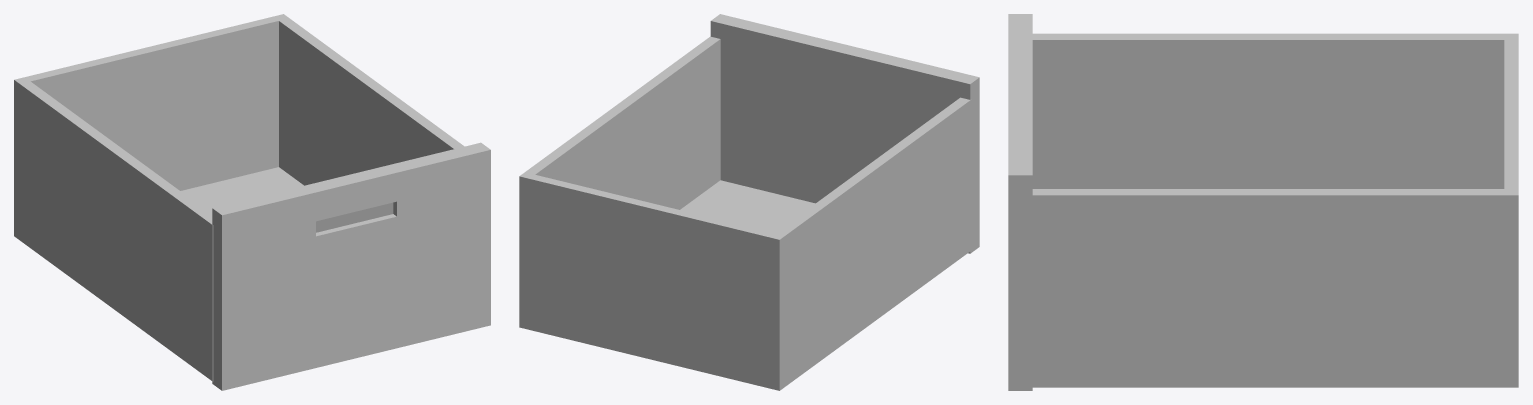
File: Refrigerator3_C2_02.fbx
3 renders of one model, left to right at view 1: azimuth 30°, elevation 25°; view 2: azimuth 150°, elevation 25°; view 3: azimuth 270°, elevation 25°, orthographic. The views are drawn at different scales.
Visible parts, largest first — view 1: Refrigerator3_C2_02; view 2: Refrigerator3_C2_02; view 3: Refrigerator3_C2_02.
Boxes of the visible parts, <box> form: Refrigerator3_C2_02: <box>14,14,490,390</box>; Refrigerator3_C2_02: <box>519,14,979,390</box>; Refrigerator3_C2_02: <box>1008,14,1518,390</box>.
Size of the model in its own units: 37.43 by 23.3 by 49.92.
